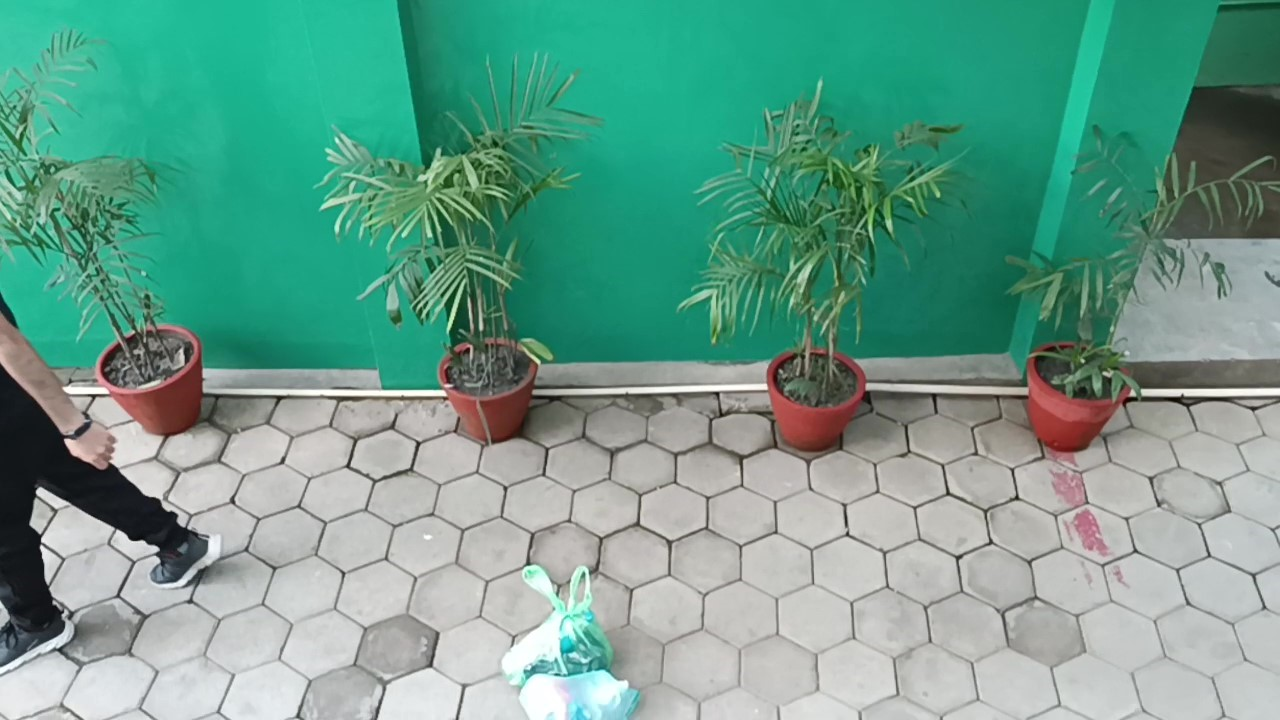thrownwaste: (485, 562, 621, 690), (511, 662, 658, 719)
